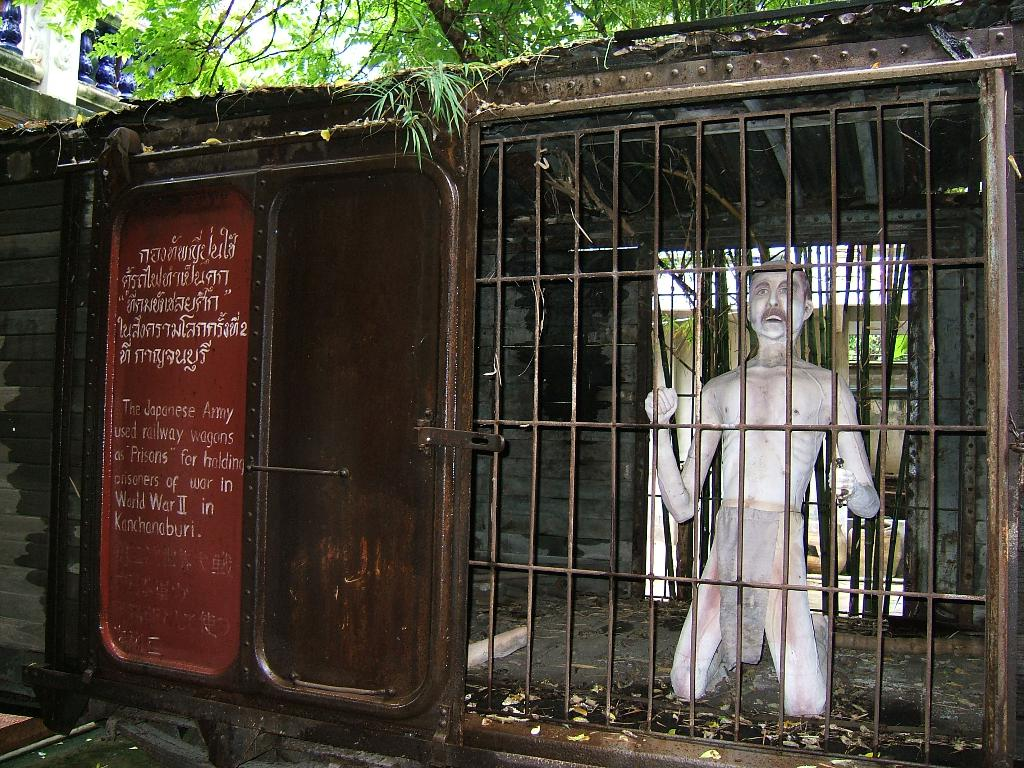door: (279, 197, 429, 673), (435, 645, 439, 656)
handle: (249, 447, 350, 482)
